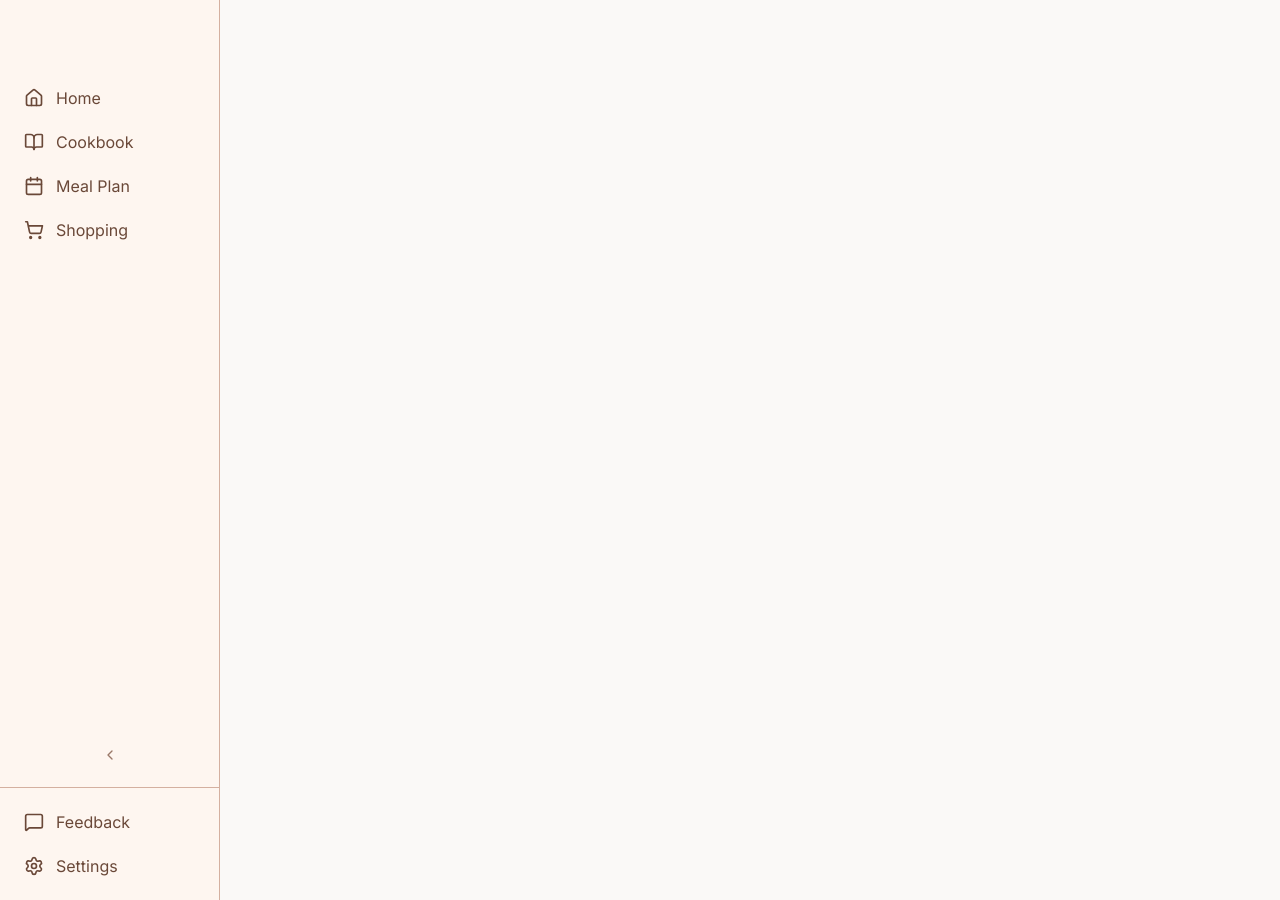
it: Sidebar › feedback button in sidebar › should open the feedback modal when the Feedback button is clicked
What coordinates should you click on to do the following:
click the button with aria-label "give feedback"
I would click on:
 (110, 822)
Its box is left=12, top=800, right=207, bottom=844.
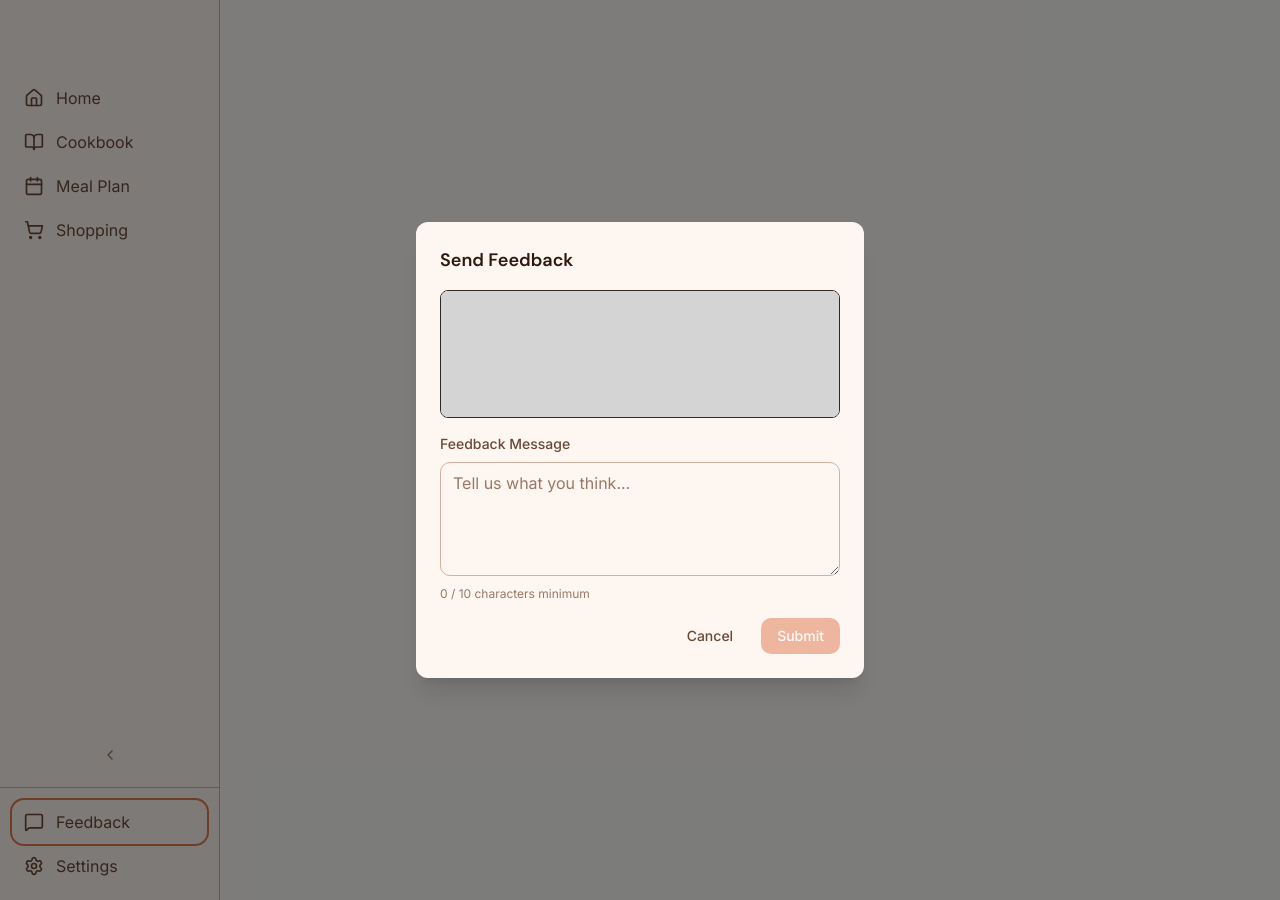
Check: the dialog "Feedback" is shown
Check: the text box labelled "Feedback Message" is shown, box left=440, top=462, right=840, bottom=576
